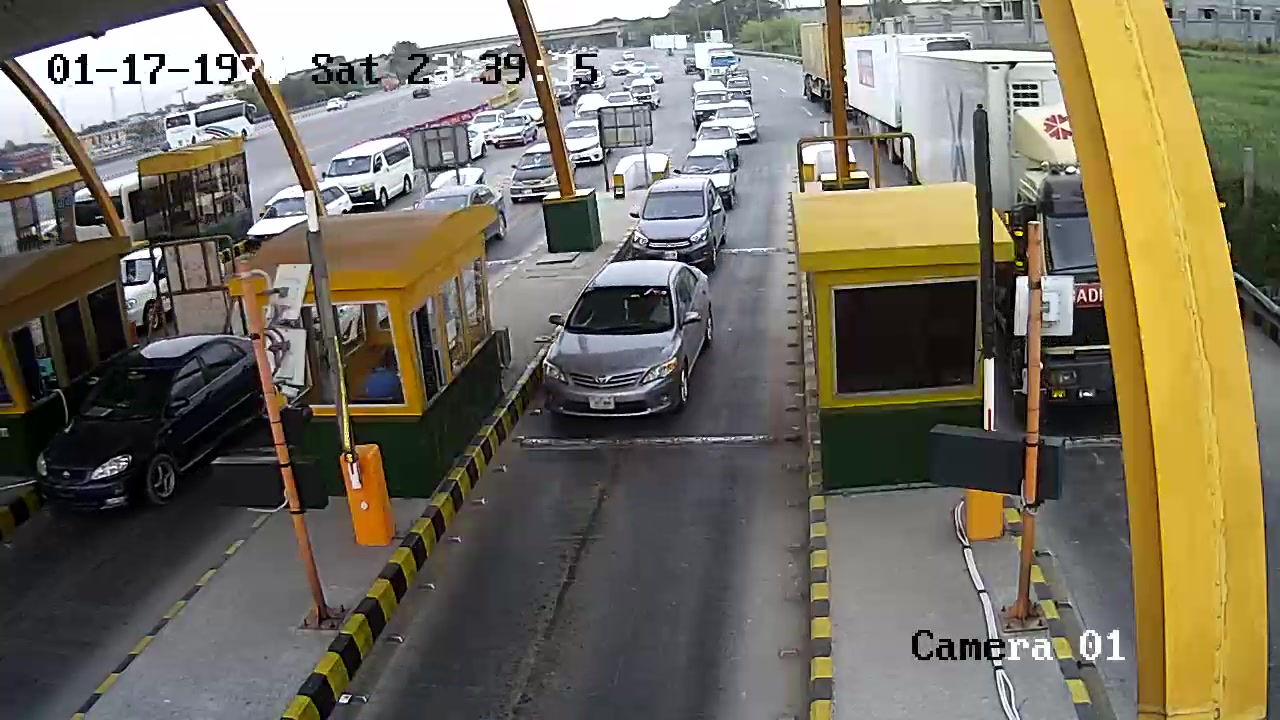F1: (540, 260, 728, 435)
